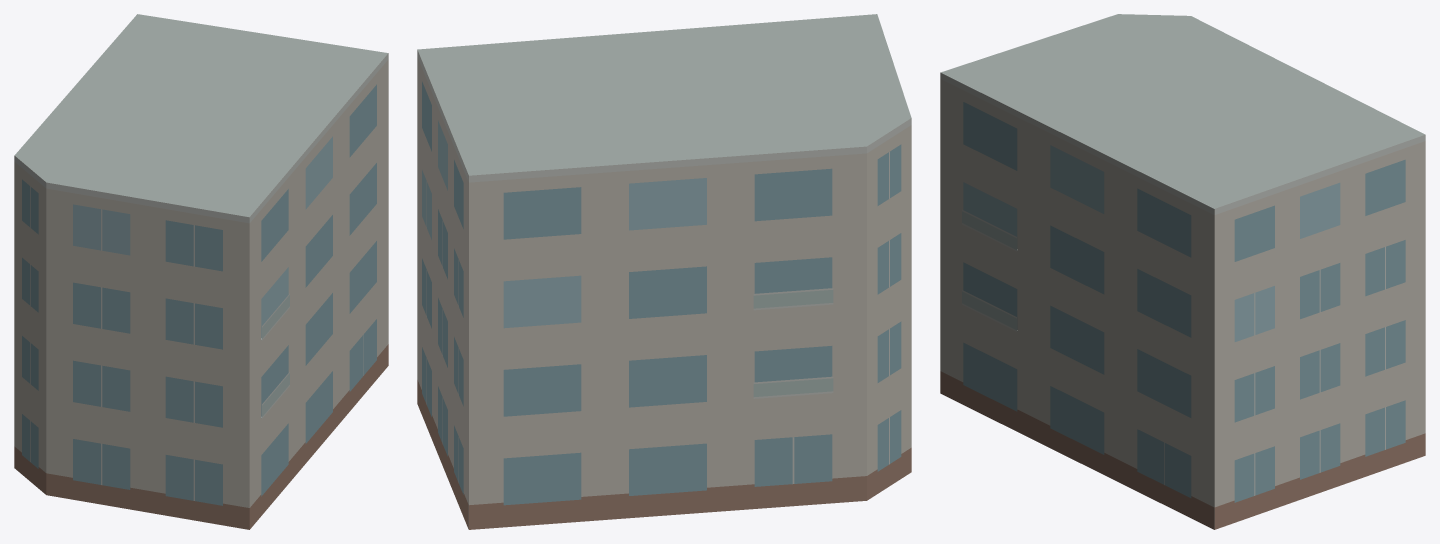
Rendered from survey-upis-33016807.glb.
3 views of the same model, side by side, from view 1: azimuth 30°, elevation 25°; view 2: azimuth 150°, elevation 25°; view 3: azimuth 270°, elevation 25° (orthographic). The views are drawn at different scales.
Parts seen in each view (by area): view 1: survey-upis-33016807.tmp; view 2: survey-upis-33016807.tmp; view 3: survey-upis-33016807.tmp.
Part boxes in pixels (left/top/right/bottom): survey-upis-33016807.tmp: left=14, top=14, right=388, bottom=529; survey-upis-33016807.tmp: left=417, top=14, right=911, bottom=529; survey-upis-33016807.tmp: left=940, top=14, right=1425, bottom=529.
Bounding box in the file's own units: 16.31 × 12.51 × 17.15.
